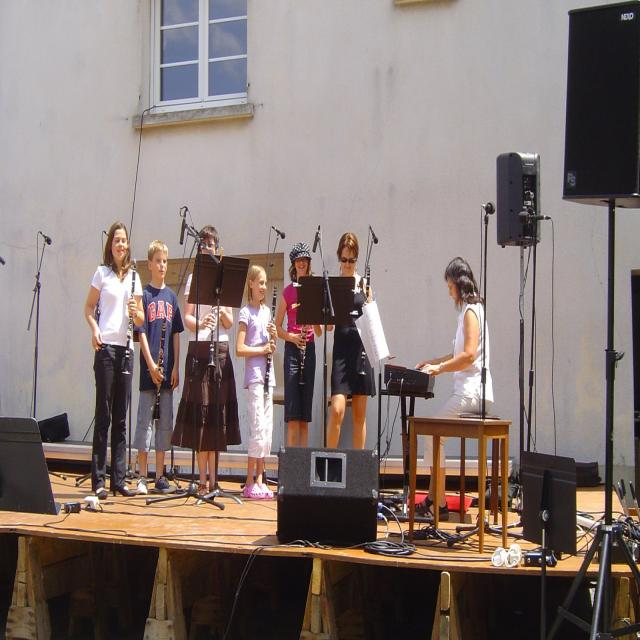clarinet: (120, 255, 140, 379), (356, 259, 374, 383), (150, 314, 169, 425), (263, 283, 280, 400), (205, 305, 218, 371), (295, 325, 308, 391)
